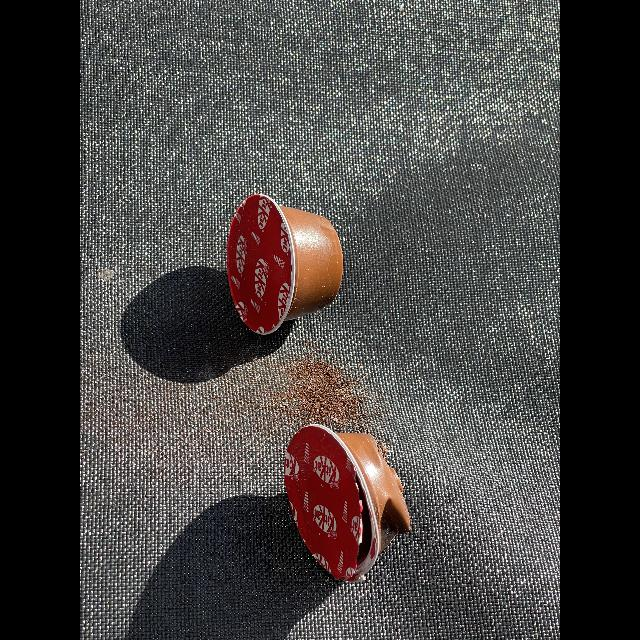damaged_capsule: (213, 384, 457, 590)
intact_capsule: (215, 176, 382, 338)
